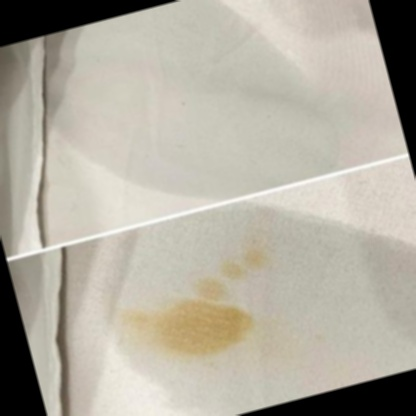coffee: (156, 297, 254, 360), (196, 277, 225, 301)
